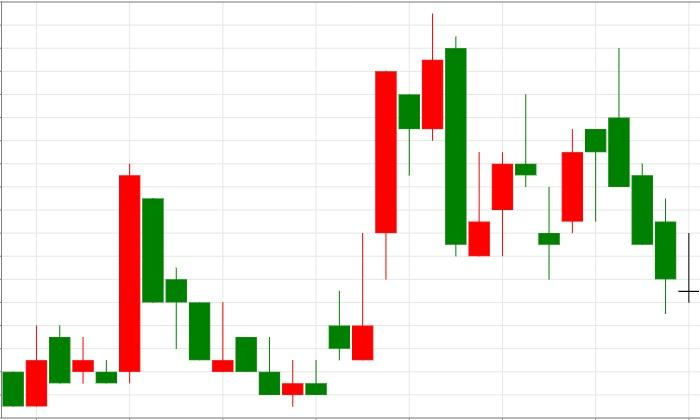hanging_man_fall: (538, 128, 607, 280)
